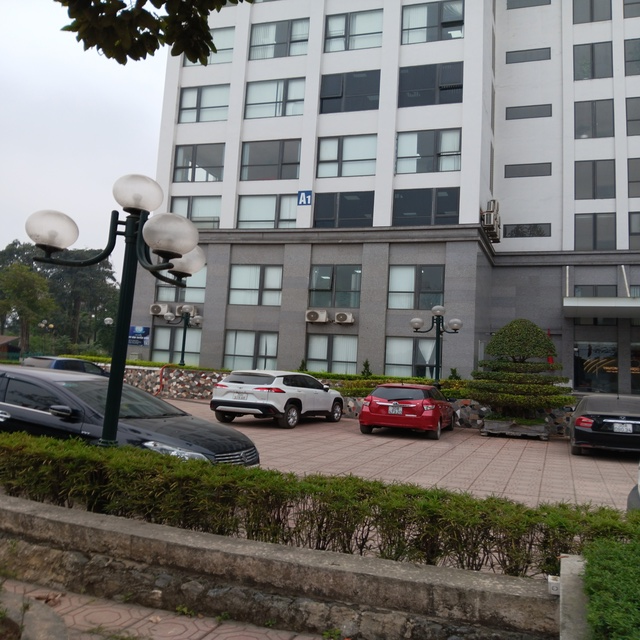cotden: (23, 175, 211, 459), (414, 303, 472, 386), (166, 302, 216, 382)
